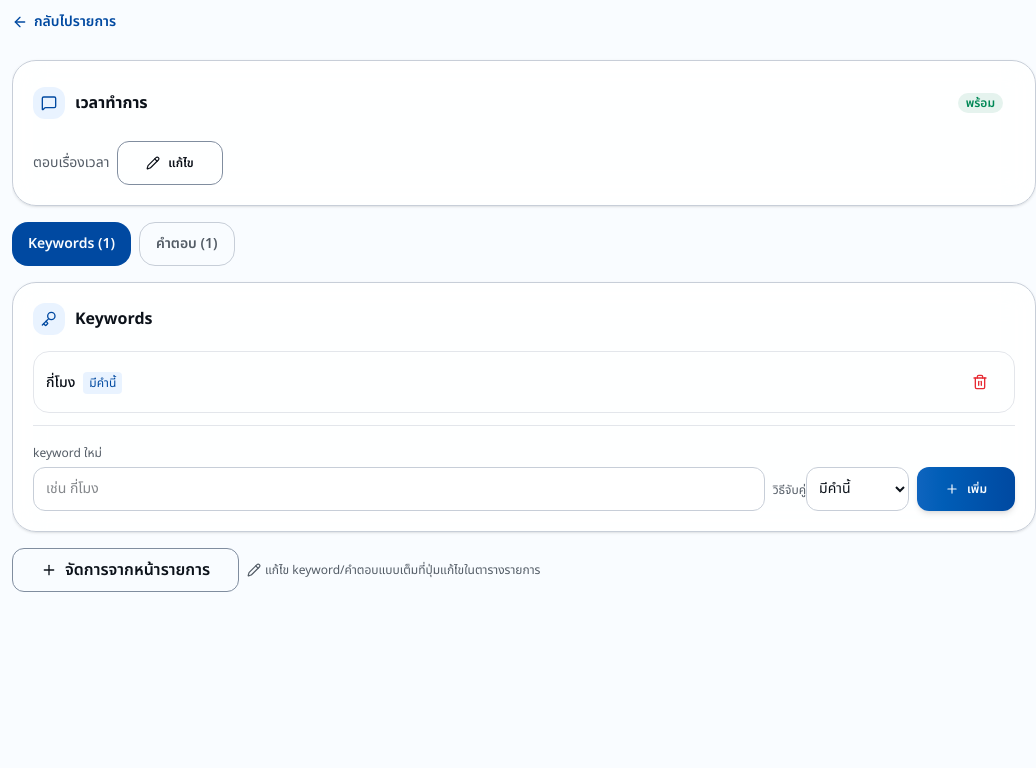
Scenario: IntentDetailClient › toggle ล้มเหลวแสดง error ไม่เงียบ
This screenshot has width=1036, height=768.
expect the text "เวลาทำการ" is shown: met, box [75,91,148,115]
Click the button with aria-label "ปิด เวลาทำการ" at (980, 103), box [946,81,1015,125]
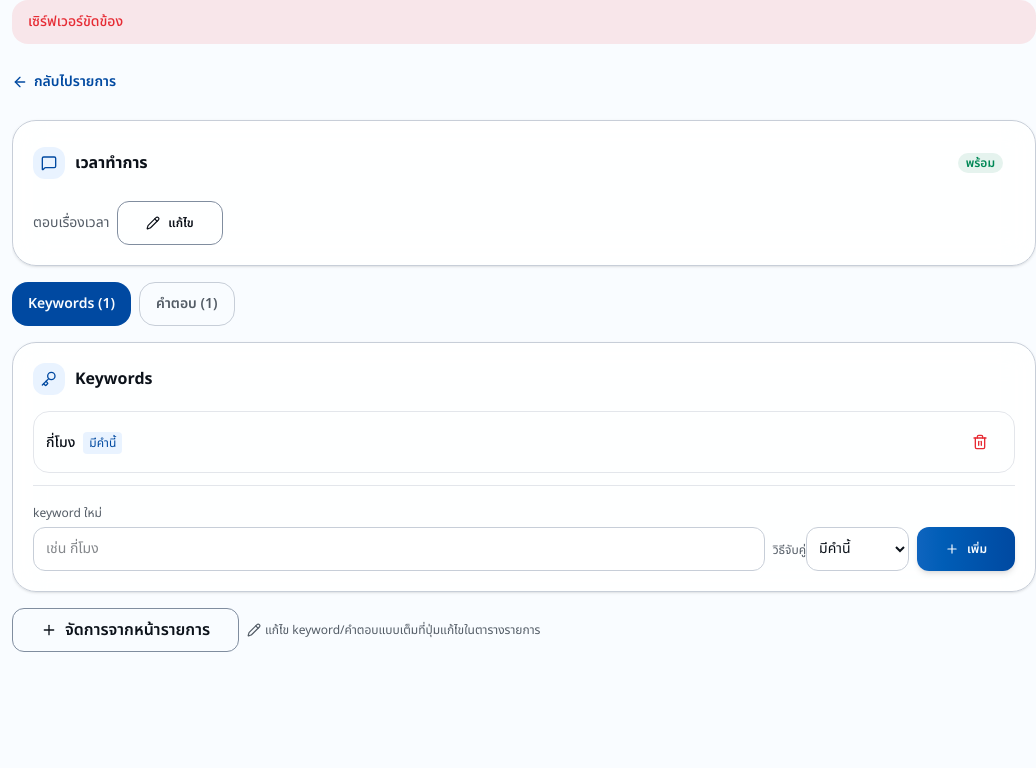
expect the message reads "เซิร์ฟเวอร์ขัดข้อง": met, box [28,11,123,32]
